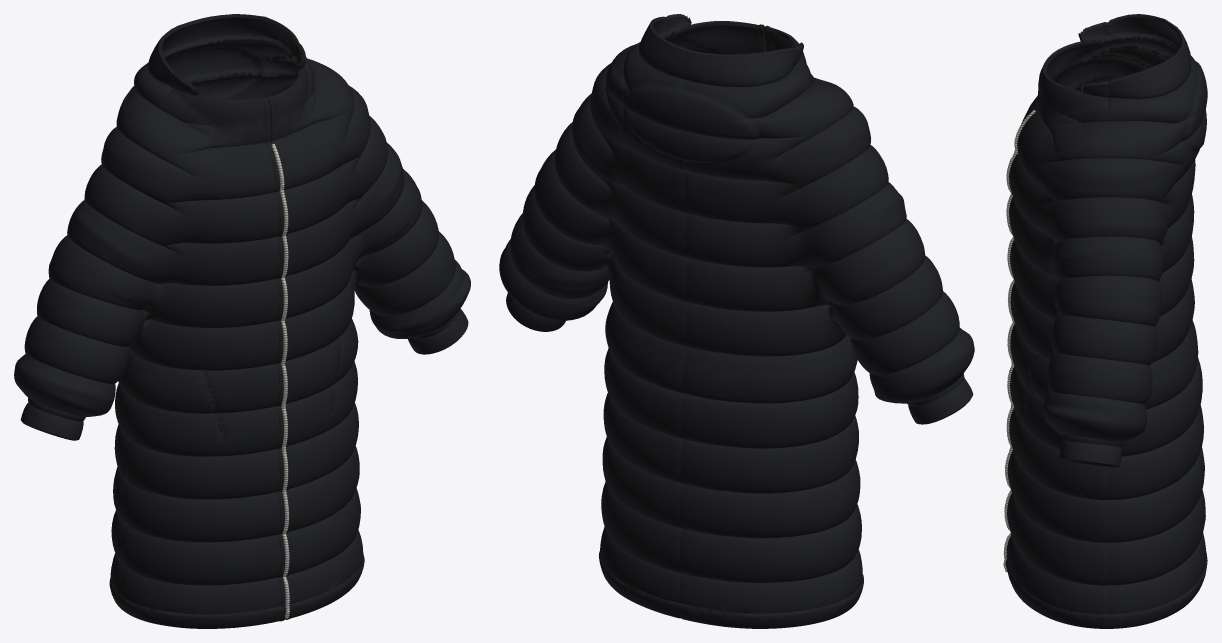
The model's file is 07_plumifero_largo_pbr.glb.
The picture shows the model from 3 angles, left to right: view 1: azimuth 30°, elevation 25°; view 2: azimuth 150°, elevation 25°; view 3: azimuth 270°, elevation 25°; orthographic projection. The views are drawn at different scales.
Visible parts, largest first — view 1: Camiseta PBR, Cremallera; view 2: Camiseta PBR; view 3: Camiseta PBR, Cremallera.
Boxes of the visible parts, left/top/right/bottom form: Camiseta PBR: left=14, top=14, right=470, bottom=628; Cremallera: left=271, top=143, right=289, bottom=618; Camiseta PBR: left=499, top=14, right=974, bottom=628; Camiseta PBR: left=1005, top=14, right=1207, bottom=628; Cremallera: left=1003, top=110, right=1035, bottom=572.
Bounding box in the file's own units: 1.03 × 1.2 × 0.4168.
Materials: 2 (1 with a texture image).
